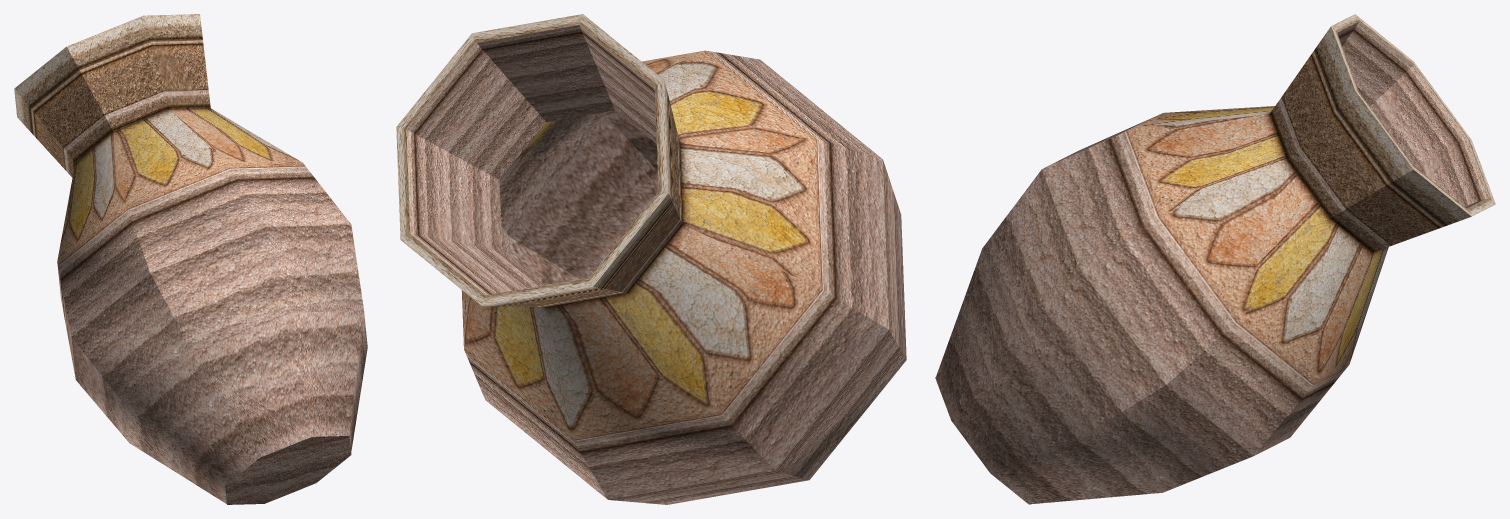
Rendered from mm9_deco_urn2tip2.glb.
3 views of the same model, side by side, from view 1: azimuth 30°, elevation 25°; view 2: azimuth 150°, elevation 25°; view 3: azimuth 270°, elevation 25° (orthographic). The views are drawn at different scales.
Visible parts, largest first — view 1: Urn2tip2; view 2: Urn2tip2; view 3: Urn2tip2.
Boxes of the visible parts, x1=… form: Urn2tip2: x1=14, y1=14, x2=367, y2=504; Urn2tip2: x1=396, y1=14, x2=906, y2=504; Urn2tip2: x1=935, y1=14, x2=1495, y2=504.
Size of the model in its own units: 0.5775 by 0.7756 by 0.8379.
Materials: 1 (1 with a texture image).
